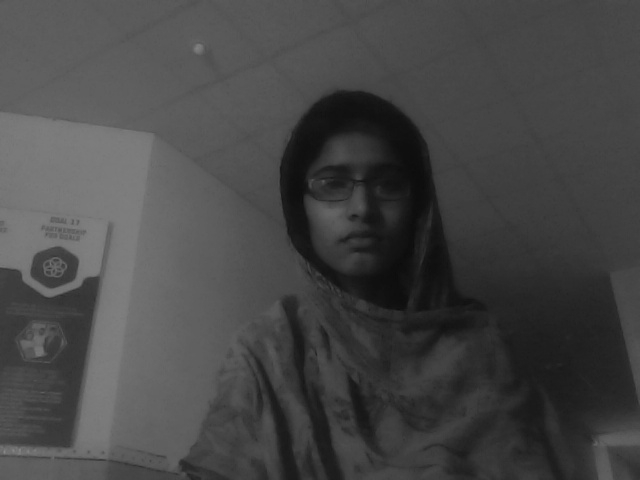Face: (143, 1, 505, 342)
